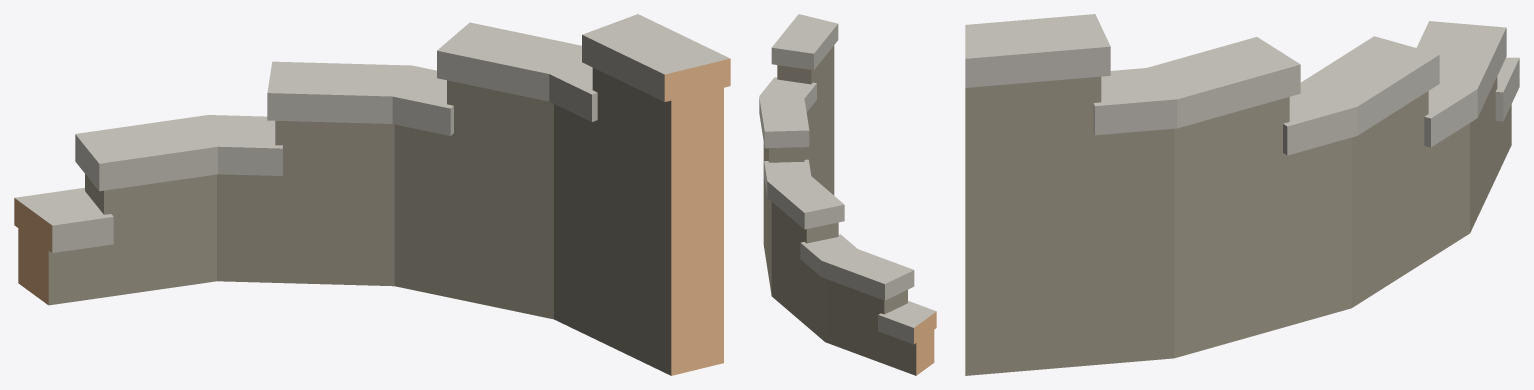
The model's file is Tiered_Retaining_Wall_Stepped_Curve_Short_2x2.glb.
3 views of the same model, side by side, from view 1: azimuth 30°, elevation 25°; view 2: azimuth 150°, elevation 25°; view 3: azimuth 270°, elevation 25° (orthographic). The views are drawn at different scales.
Visible parts, largest first — view 1: Tiered_Retaining_Wall_Stepped_Curve_Short_2x2; view 2: Tiered_Retaining_Wall_Stepped_Curve_Short_2x2; view 3: Tiered_Retaining_Wall_Stepped_Curve_Short_2x2.
Boxes of the visible parts, x1,y1,x2,y2 form: Tiered_Retaining_Wall_Stepped_Curve_Short_2x2: (14, 14, 730, 375); Tiered_Retaining_Wall_Stepped_Curve_Short_2x2: (759, 14, 936, 375); Tiered_Retaining_Wall_Stepped_Curve_Short_2x2: (965, 14, 1519, 375).
Size of the model in its own units: 216 by 138 by 216.
